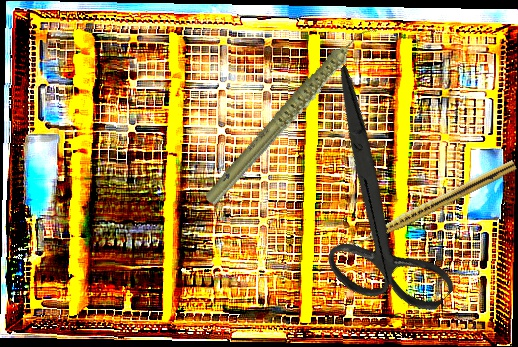Handpiece: (175, 22, 408, 209), (346, 156, 518, 253)
Iris Scissors: (234, 63, 517, 342)
